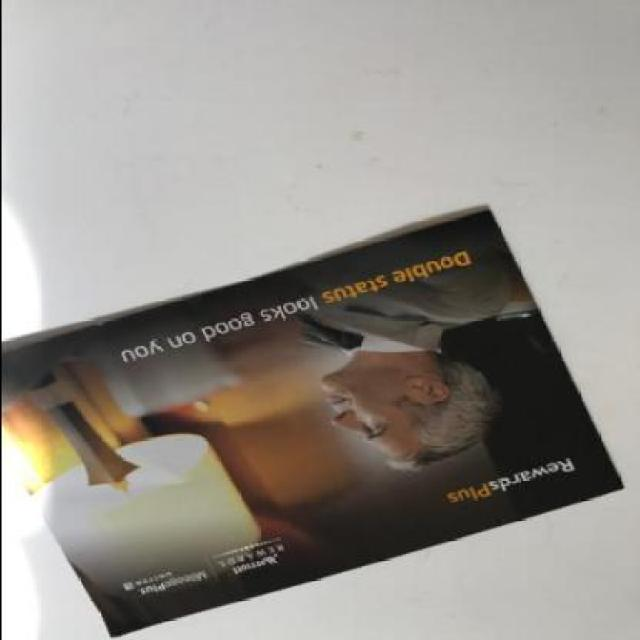paper: (2, 211, 620, 638)
